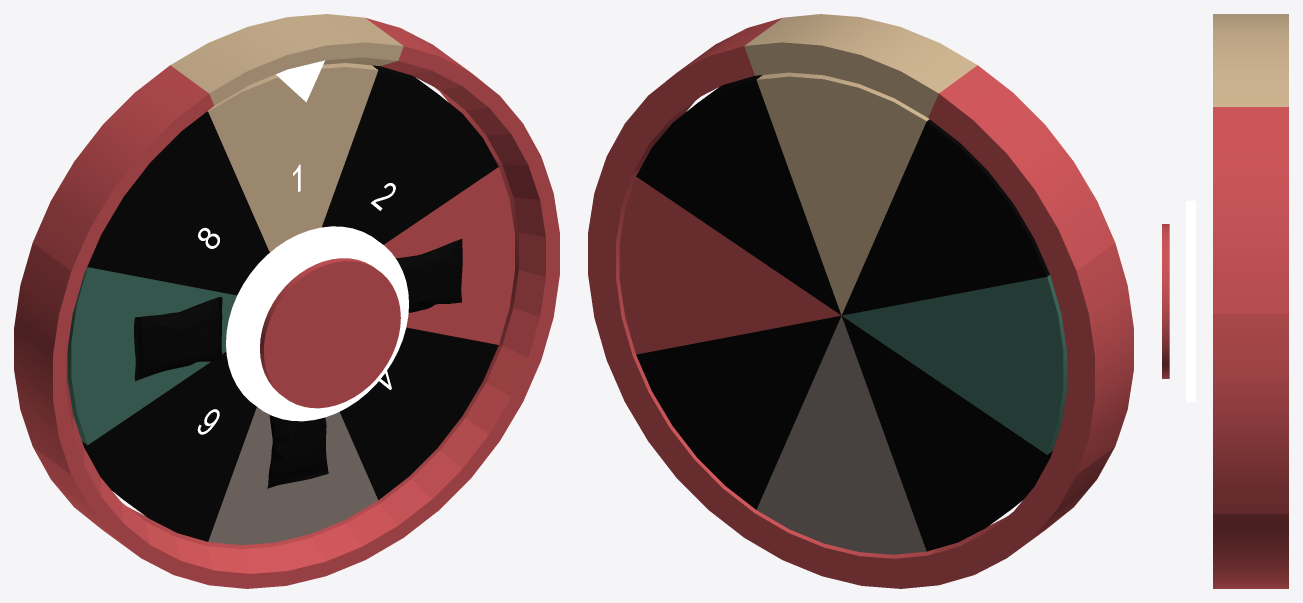
The model's file is wheel.glb.
3 renders of one model, left to right at view 1: azimuth 30°, elevation 25°; view 2: azimuth 150°, elevation 25°; view 3: azimuth 270°, elevation 25°, orthographic. The views are drawn at different scales.
Visible parts, largest first — view 1: WheelSegment8, WheelSegment1, WheelSegment6, WheelSegment2, WheelButton, WheelSegment7, WheelSegment4, WheelOuter8, skp3JuhD1 2 (×3), WheelSegment5, WheelSegment3, WheelButtonBkg (+8 smaller); view 2: WheelSegment7, WheelSegment1, WheelSegment8, WheelSegment6, WheelSegment2, WheelSegment3, WheelSegment5, WheelSegment4, WheelOuter8, WheelOuter7, WheelOuter1, WheelOuter6 (+4 smaller); view 3: WheelOuter2, WheelOuter3, WheelOuter1, WheelOuter4, WheelButtonBkg, WheelButton.
Part boxes in pixels (x1,y1,x2,y2): WheelSegment8: [87, 111, 269, 295]; WheelSegment1: [207, 63, 378, 252]; WheelSegment6: [82, 352, 256, 541]; WheelSegment2: [322, 65, 498, 244]; WheelButton: [260, 258, 400, 408]; WheelSegment7: [67, 267, 236, 445]; WheelSegment4: [340, 327, 498, 500]; WheelOuter8: [32, 65, 214, 273]; skp3JuhD1 2 (×3): [134, 238, 462, 488]; WheelSegment5: [208, 407, 378, 545]; WheelSegment3: [384, 167, 514, 344]; WheelButtonBkg: [226, 226, 408, 421]; WheelSegment7: [842, 275, 1067, 454]; WheelSegment1: [756, 72, 929, 315]; WheelSegment8: [842, 119, 1049, 315]; WheelSegment6: [842, 316, 1052, 551]; WheelSegment2: [636, 75, 841, 315]; WheelSegment3: [619, 176, 840, 354]; WheelSegment5: [756, 316, 926, 554]; WheelSegment4: [636, 315, 841, 509]; WheelOuter8: [928, 65, 1115, 275]; WheelOuter7: [1050, 243, 1133, 474]; WheelOuter1: [744, 14, 977, 117]; WheelOuter6: [928, 447, 1114, 585]; WheelOuter2: [1213, 107, 1288, 313]; WheelOuter3: [1213, 314, 1288, 513]; WheelOuter1: [1213, 14, 1288, 106]; WheelOuter4: [1213, 513, 1288, 588]; WheelButtonBkg: [1186, 200, 1195, 402]; WheelButton: [1162, 224, 1169, 378].
Bounding box in the file's own units: 1.14 × 1.14 × 0.252.
